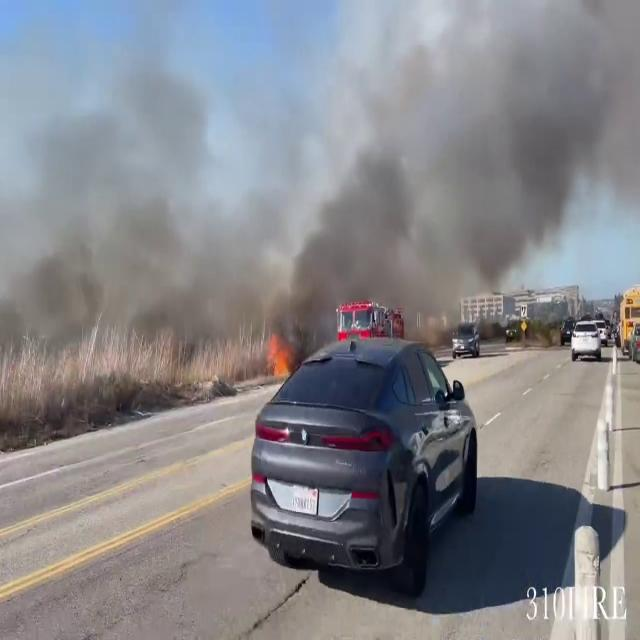Fire: (264, 330, 286, 383)
Smoke: (263, 0, 640, 310), (0, 14, 266, 368)
